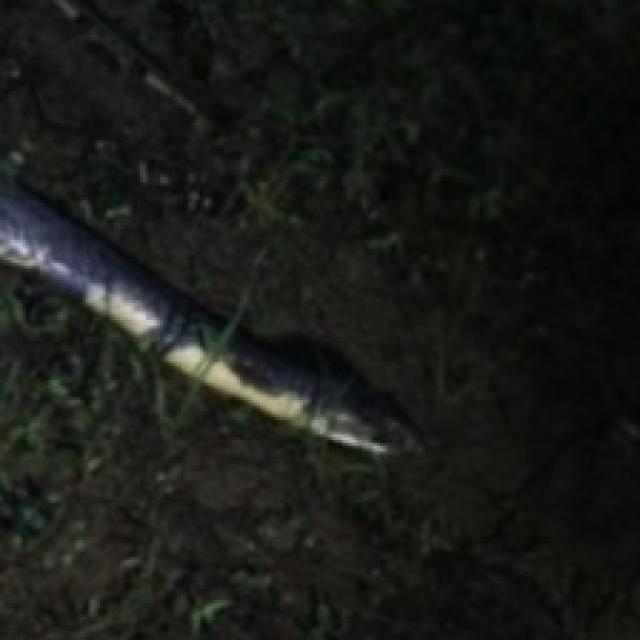king cobra: (0, 183, 417, 451), (0, 0, 206, 134)
